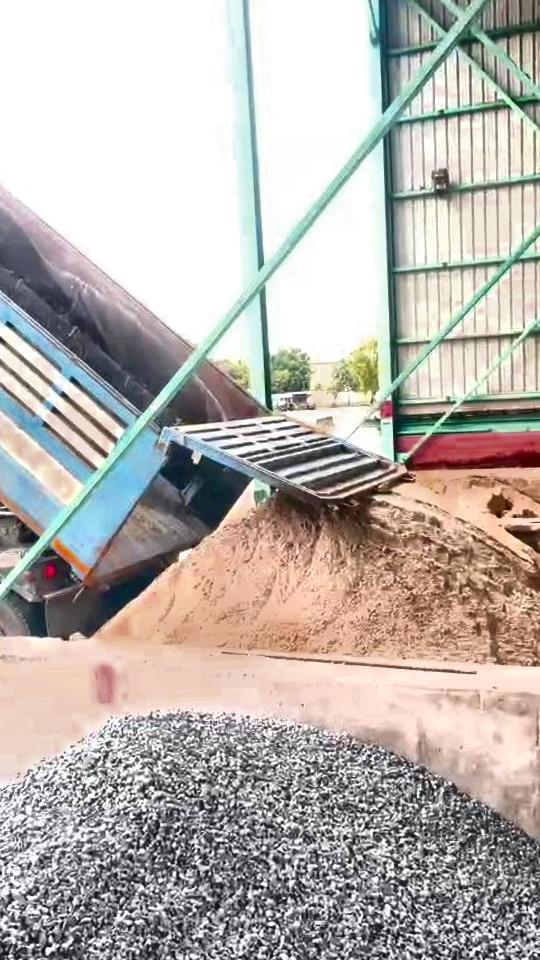gravel: (0, 713, 540, 960)
sand: (97, 485, 540, 665), (445, 476, 540, 523)
